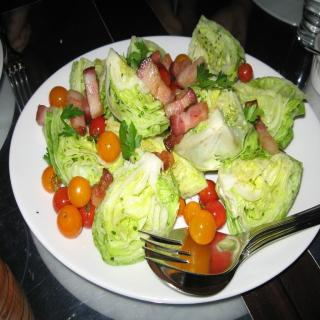tomato: (188, 210, 217, 248), (56, 204, 82, 240), (67, 175, 92, 207), (93, 127, 117, 159), (206, 200, 227, 230), (198, 179, 220, 207), (42, 165, 62, 193), (50, 86, 69, 110), (52, 186, 70, 211), (81, 203, 97, 227), (184, 201, 200, 223), (88, 116, 106, 135), (239, 64, 252, 83), (176, 197, 187, 218), (158, 67, 170, 84)
